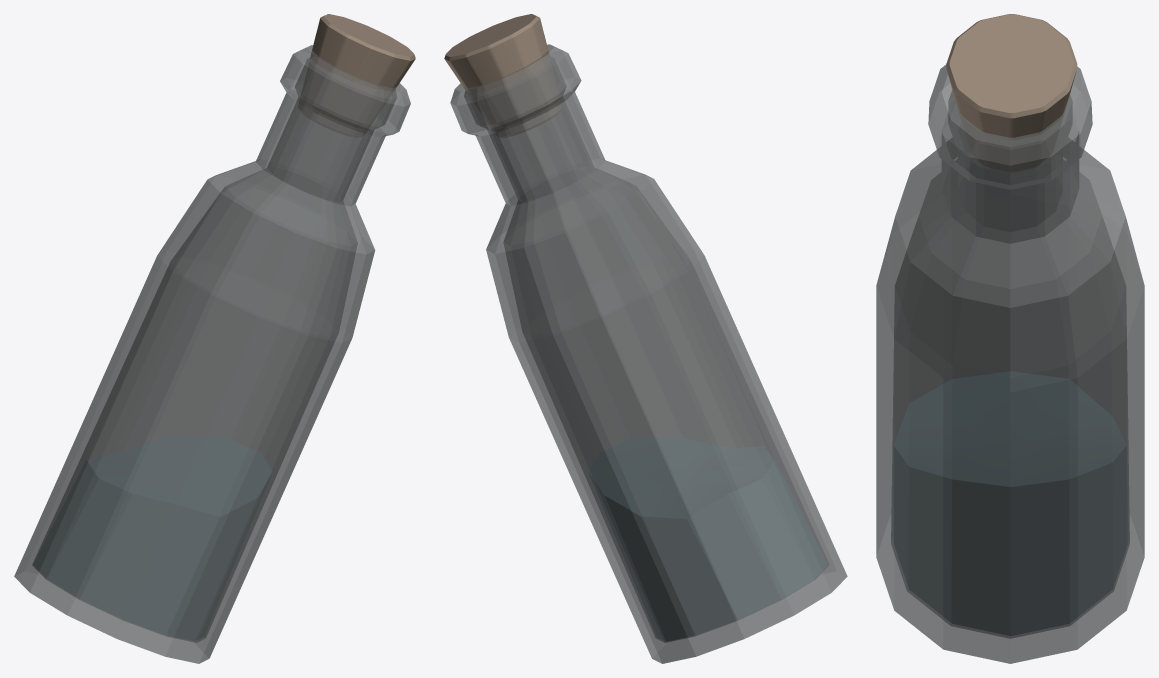
Rendered from p_potion_gallows.fbx.
The picture shows the model from 3 angles, left to right: view 1: azimuth 30°, elevation 25°; view 2: azimuth 150°, elevation 25°; view 3: azimuth 270°, elevation 25°; orthographic projection. The views are drawn at different scales.
Parts seen in each view (by area): view 1: pCylinder28; view 2: pCylinder28; view 3: pCylinder28.
Boxes of the visible parts, x1=… form: pCylinder28: x1=14, y1=14, x2=415, y2=663; pCylinder28: x1=444, y1=14, x2=847, y2=663; pCylinder28: x1=876, y1=14, x2=1144, y2=663.
Size of the model in its own units: 32.96 by 48.61 by 16.1.
